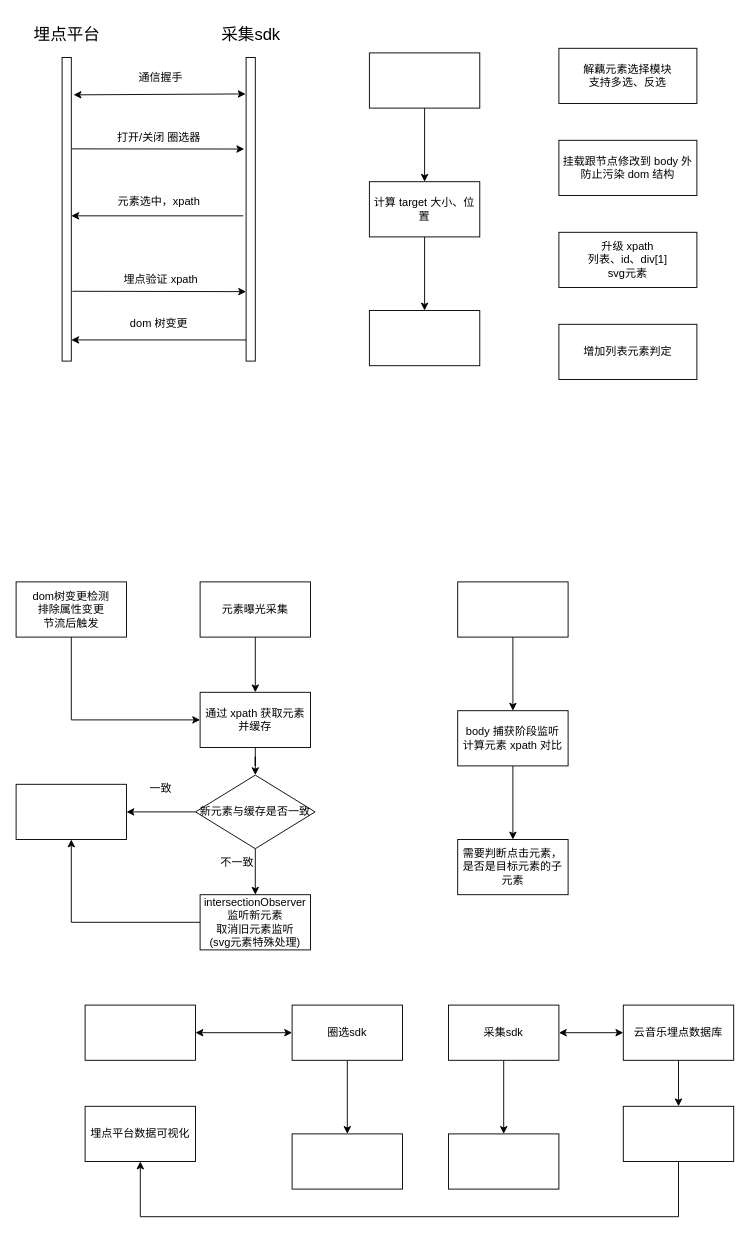
This 750x1240 diagram has some shape labels left out. Here are the shapes that lost their labels. From the top down, the box of each, then its label:
(368, 52, 480, 108): body 监听 mousemove
(368, 310, 480, 366): 添加浮层
(457, 581, 568, 637): 元素点击点采集
(15, 783, 126, 840): 无需处理，在回调中根据元素计算 xpath 并进行匹配埋点上报即可
(84, 1004, 196, 1060): 埋点平台采集页面
(622, 1105, 734, 1162): node psql服务
(291, 1133, 402, 1189): 圈选器
(448, 1133, 559, 1189): ui自动化测试
